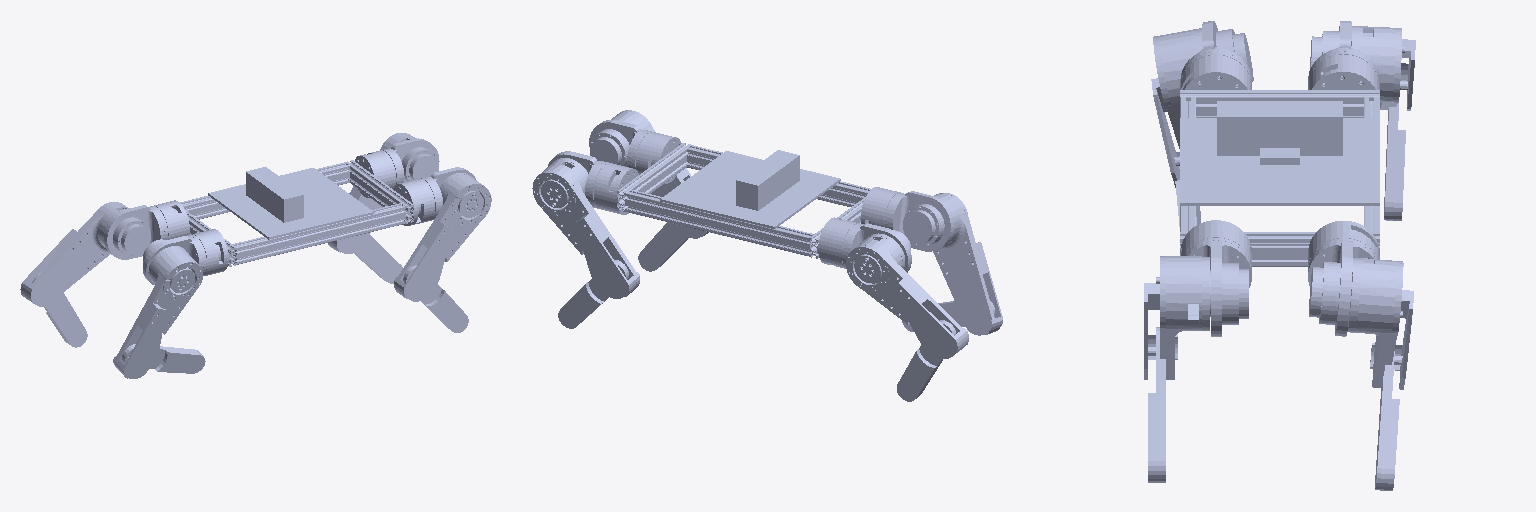
robot.urdf — Ares:
<?xml version="1.0" encoding="utf-8"?>
<!-- This URDF was automatically created by SolidWorks to URDF Exporter! Originally created by Stephen Brawner (brawner@gmail.com) 
     Commit Version: 1.6.0-4-g7f85cfe  Build Version: 1.6.7995.38578
     For more information, please see http://wiki.ros.org/sw_urdf_exporter -->
<robot
  name="Ares">
  <link
    name="base_link">
    <inertial>
      <origin
        xyz="-0.0045395 1.4255E-05 -0.026741"
        rpy="0 0 0" />
      <mass
        value="3.806500" />
      <inertia
        ixx="0.028212"
        ixy="0.000001"
        ixz="0.001285"
        iyy="0.151792"
        iyz="0.000001"
        izz="0.174225" />
    </inertial>
    <visual>
      <origin
        xyz="0 0 0"
        rpy="0 0 0" />
      <geometry>
        <mesh
          filename="package://Ares/meshes/base_link.STL" />
      </geometry>
      <material
        name="">
        <color
          rgba="0.79216 0.81961 0.93333 1" />
      </material>
    </visual>
    <collision>
      <origin
        xyz="0 0 0"
        rpy="0 0 0" />
      <geometry>
        <mesh
          filename="package://Ares/meshes/base_link.STL" />
      </geometry>
    </collision>
  </link>
  <link
    name="lf_hip_link">
    <inertial>
      <origin
        xyz="0.049383 -0.008743 0.0008623"
        rpy="0 0 0" />
      <mass
        value="0.518000" />
      <inertia
        ixx="0.000349"
        ixy="0.000067"
        ixz="0.0"
        iyy="0.000641"
        iyz="0.0"
        izz="0.000534" />
    </inertial>
    <visual>
      <origin
        xyz="0 0 0"
        rpy="0 0 0" />
      <geometry>
        <mesh
          filename="package://Ares/meshes/lf_hip_link.STL" />
      </geometry>
      <material
        name="">
        <color
          rgba="0.79216 0.81961 0.93333 1" />
      </material>
    </visual>
    <collision>
      <origin
        xyz="0 0 0"
        rpy="0 0 0" />
      <geometry>
        <mesh
          filename="package://Ares/meshes/lf_hip_link.STL" />
      </geometry>
    </collision>
  </link>
  <joint
    name="lf_hip_base_joint"
    type="revolute">
    <origin
      xyz="0.2725 0.08 -0.035336"
      rpy="0 0 0" />
    <parent
      link="base_link" />
    <child
      link="lf_hip_link" />
    <axis
      xyz="1 0 0" />
    <limit
      lower="-0.5"
      upper="1.57"
      effort="17"
      velocity="300" />
  </joint>
  <link
    name="lf_thigh_link">
    <inertial>
      <origin
        xyz="0.04587 0.044351 -0.05262"
        rpy="0 0 0" />
      <mass
        value="0.303000" />
      <inertia
        ixx="0.000518"
        ixy="0.000253"
        ixz="0.000493"
        iyy="0.001870"
        iyz="0.000103"
        izz="0.001659" />
    </inertial>
    <visual>
      <origin
        xyz="0 0 0"
        rpy="0 0 0" />
      <geometry>
        <mesh
          filename="package://Ares/meshes/lf_thigh_link.STL" />
      </geometry>
      <material
        name="">
        <color
          rgba="0.79216 0.81961 0.93333 1" />
      </material>
    </visual>
    <collision>
      <origin
        xyz="0 0 0"
        rpy="0 0 0" />
      <geometry>
        <mesh
          filename="package://Ares/meshes/lf_thigh_link.STL" />
      </geometry>
    </collision>
  </link>
  <joint
    name="lf_thigh_hip_joint"
    type="revolute">
    <origin
      xyz="0.069954 0.00049822 -4.2121E-05"
      rpy="0 0 1.5708" />
    <parent
      link="lf_hip_link" />
    <child
      link="lf_thigh_link" />
    <axis
      xyz="-0.99645 0 0.084242" />
    <limit
      lower="-2.35"
      upper="2.35"
      effort="17"
      velocity="300" />
  </joint>
  <link
    name="lf_calf_link">
    <inertial>
      <origin
        xyz="-0.0042146 -0.055056 -0.06235"
        rpy="0 0 0" />
      <mass
        value="0.15779" />
      <inertia
        ixx="0.000294"
        ixy="-0.000010"
        ixz="0.000196"
        iyy="0.000466"
        iyz="0.000013"
        izz="0.000184" />
    </inertial>
    <visual>
      <origin
        xyz="0 0 0"
        rpy="0 0 0" />
      <geometry>
        <mesh
          filename="package://Ares/meshes/lf_calf_link.STL" />
      </geometry>
      <material
        name="">
        <color
          rgba="0.79216 0.81961 0.93333 1" />
      </material>
    </visual>
    <collision>
      <origin
        xyz="0 0 0"
        rpy="0 0 0" />
      <geometry>
        <mesh
          filename="package://Ares/meshes/lf_calf_link.STL" />
      </geometry>
    </collision>
  </link>
  <joint
    name="lf_calf_thigh_joint"
    type="revolute">
    <origin
      xyz="0.058001 0.12479 -0.14869"
      rpy="0 0 0" />
    <parent
      link="lf_thigh_link" />
    <child
      link="lf_calf_link" />
    <axis
      xyz="-0.99645 0 0.084242" />
    <limit
      lower="-0.9"
      upper="0.75"
      effort="17"
      velocity="300" />
  </joint>
  <link
    name="rf_hip_link">
    <inertial>
      <origin
        xyz="0.049377 0.0087846 -0.0001227"
        rpy="0 0 0" />
      <mass
        value="0.518000" />
      <inertia
        ixx="0.000349"
        ixy="-0.000068"
        ixz="0.0"
        iyy="0.000641"
        iyz="0.0"
        izz="0.000534" />
    </inertial>
    <visual>
      <origin
        xyz="0 0 0"
        rpy="0 0 0" />
      <geometry>
        <mesh
          filename="package://Ares/meshes/rf_hip_link.STL" />
      </geometry>
      <material
        name="">
        <color
          rgba="0.79216 0.81961 0.93333 1" />
      </material>
    </visual>
    <collision>
      <origin
        xyz="0 0 0"
        rpy="0 0 0" />
      <geometry>
        <mesh
          filename="package://Ares/meshes/rf_hip_link.STL" />
      </geometry>
    </collision>
  </link>
  <joint
    name="rf_hip_base_joint"
    type="revolute">
    <origin
      xyz="0.2725 -0.08 -0.034664"
      rpy="0 0 0" />
    <parent
      link="base_link" />
    <child
      link="rf_hip_link" />
    <axis
      xyz="1 0 0" />
    <limit
      lower="-1.57"
      upper="0.5"
      effort="17"
      velocity="300" />
  </joint>
  <link
    name="rf_thigh_link">
    <inertial>
      <origin
        xyz="0.050131 -0.045996 -0.046895"
        rpy="0 0 0" />
      <mass
        value="0.303380" />
      <inertia
        ixx="0.000445"
        ixy="-0.000265"
        ixz="-0.000392"
        iyy="0.001870"
        iyz="0.000066"
        izz="0.001732" />
    </inertial>
    <visual>
      <origin
        xyz="0 0 0"
        rpy="0 0 0" />
      <geometry>
        <mesh
          filename="package://Ares/meshes/rf_thigh_link.STL" />
      </geometry>
      <material
        name="">
        <color
          rgba="0.79216 0.81961 0.93333 1" />
      </material>
    </visual>
    <collision>
      <origin
        xyz="0 0 0"
        rpy="0 0 0" />
      <geometry>
        <mesh
          filename="package://Ares/meshes/rf_thigh_link.STL" />
      </geometry>
    </collision>
  </link>
  <joint
    name="rf_thigh_hip_joint"
    type="revolute">
    <origin
      xyz="0.069954 -0.0005 0"
      rpy="0 0 -1.5708" />
    <parent
      link="rf_hip_link" />
    <child
      link="rf_thigh_link" />
    <axis
      xyz="-1 0 0" />
    <limit
      lower="-2.35"
      upper="2.35"
      effort="17"
      velocity="300" />
  </joint>
  <link
    name="rf_calf_ink">
    <inertial>
      <origin
        xyz="0.0010529 0.052087 -0.064979"
        rpy="0 0 0" />
      <mass
        value="0.15779" />
      <inertia
        ixx="0.000375"
        ixy="0.000007"
        ixz="0.000152"
        iyy="0.000466"
        iyz="0.000015"
        izz="0.000103" />
    </inertial>
    <visual>
      <origin
        xyz="0 0 0"
        rpy="0 0 0" />
      <geometry>
        <mesh
          filename="package://Ares/meshes/rf_calf_ink.STL" />
      </geometry>
      <material
        name="">
        <color
          rgba="0.79216 0.81961 0.93333 1" />
      </material>
    </visual>
    <collision>
      <origin
        xyz="0 0 0"
        rpy="0 0 0" />
      <geometry>
        <mesh
          filename="package://Ares/meshes/rf_calf_ink.STL" />
      </geometry>
    </collision>
  </link>
  <joint
    name="rf_calf_thigh_joint"
    type="revolute">
    <origin
      xyz="0.070321 -0.13012 -0.13845"
      rpy="0 0 0" />
    <parent
      link="rf_thigh_link" />
    <child
      link="rf_calf_ink" />
    <axis
      xyz="-1 0 0" />
    <limit
      lower="-0.7"
      upper="0.9"
      effort="17"
      velocity="300" />
  </joint>
  <link
    name="lb_hip_link">
    <inertial>
      <origin
        xyz="0.049383 0.0087802 0.00030416"
        rpy="0 0 0" />
      <mass
        value="0.518000" />
      <inertia
        ixx="0.000349"
        ixy="-0.000067"
        ixz="0.0"
        iyy="0.000641"
        iyz="0.0"
        izz="0.000534" />
    </inertial>
    <visual>
      <origin
        xyz="0 0 0"
        rpy="0 0 0" />
      <geometry>
        <mesh
          filename="package://Ares/meshes/lb_hip_link.STL" />
      </geometry>
      <material
        name="">
        <color
          rgba="0.79216 0.81961 0.93333 1" />
      </material>
    </visual>
    <collision>
      <origin
        xyz="0 0 0"
        rpy="0 0 0" />
      <geometry>
        <mesh
          filename="package://Ares/meshes/lb_hip_link.STL" />
      </geometry>
    </collision>
  </link>
  <joint
    name="lb_hip_base_joint"
    type="revolute">
    <origin
      xyz="-0.2725 0.08 -0.034664"
      rpy="0 0 3.1416" />
    <parent
      link="base_link" />
    <child
      link="lb_hip_link" />
    <axis
      xyz="1 0 0" />
    <limit
      lower="-1.57"
      upper="0.5"
      effort="17"
      velocity="300" />
  </joint>
  <link
    name="lb_thigh_link">
    <inertial>
      <origin
        xyz="0.046986 0.041032 -0.027151"
        rpy="0 0 0" />
      <mass
        value="0.713000" />
      <inertia
        ixx="0.001156"
        ixy="0.000298"
        ixz="-0.000991"
        iyy="0.002863"
        iyz="0.000175"
        izz="0.002142" />
    </inertial>
    <visual>
      <origin
        xyz="0 0 0"
        rpy="0 0 0" />
      <geometry>
        <mesh
          filename="package://Ares/meshes/lb_thigh_link.STL" />
      </geometry>
      <material
        name="">
        <color
          rgba="0.79216 0.81961 0.93333 1" />
      </material>
    </visual>
    <collision>
      <origin
        xyz="0 0 0"
        rpy="0 0 0" />
      <geometry>
        <mesh
          filename="package://Ares/meshes/lb_thigh_link.STL" />
      </geometry>
    </collision>
  </link>
  <joint
    name="lb_thigh_hip_joint"
    type="revolute">
    <origin
      xyz="0.069954 -0.00049941 -2.4287E-05"
      rpy="0 0 -1.5708" />
    <parent
      link="lb_hip_link" />
    <child
      link="lb_thigh_link" />
    <axis
      xyz="-0.99882 0 0.048575" />
    <limit
      lower="-2.35"
      upper="2.35"
      effort="17"
      velocity="300" />
  </joint>
  <link
    name="lb_calf_link">
    <inertial>
      <origin
        xyz="0.0010529 -0.082078 -0.014093"
        rpy="0 0 0" />
      <mass
        value="0.15779" />
      <inertia
        ixx="0.000047"
        ixy="-0.000016"
        ixz="0.000068"
        iyy="0.000466"
        iyz="0.000003"
        izz="0.0004307" />
    </inertial>
    <visual>
      <origin
        xyz="0 0 0"
        rpy="0 0 0" />
      <geometry>
        <mesh
          filename="package://Ares/meshes/lb_calf_link.STL" />
      </geometry>
      <material
        name="">
        <color
          rgba="0.79216 0.81961 0.93333 1" />
      </material>
    </visual>
    <collision>
      <origin
        xyz="0 0 0"
        rpy="0 0 0" />
      <geometry>
        <mesh
          filename="package://Ares/meshes/lb_calf_link.STL" />
      </geometry>
    </collision>
  </link>
  <joint
    name="lb_calf_thigh_joint"
    type="revolute">
    <origin
      xyz="0.065273 0.16017 -0.1055"
      rpy="0 0.048594 0" />
    <parent
      link="lb_thigh_link" />
    <child
      link="lb_calf_link" />
    <axis
      xyz="-1 0 0" />
    <limit
      lower="-1.65"
      upper="-0.13"
      effort="17"
      velocity="300" />
  </joint>
  <link
    name="rb_hip_link">
    <inertial>
      <origin
        xyz="0.049377 -0.0085897 0.0018443"
        rpy="0 0 0" />
      <mass
        value="0.518000" />
      <inertia
        ixx="0.000349"
        ixy="0.000068"
        ixz="0.0"
        iyy="0.000641"
        iyz="0.0"
        izz="0.000534" />
    </inertial>
    <visual>
      <origin
        xyz="0 0 0"
        rpy="0 0 0" />
      <geometry>
        <mesh
          filename="package://Ares/meshes/rb_hip_link.STL" />
      </geometry>
      <material
        name="">
        <color
          rgba="0.79216 0.81961 0.93333 1" />
      </material>
    </visual>
    <collision>
      <origin
        xyz="0 0 0"
        rpy="0 0 0" />
      <geometry>
        <mesh
          filename="package://Ares/meshes/rb_hip_link.STL" />
      </geometry>
    </collision>
  </link>
  <joint
    name="rb_hip_base_joint"
    type="revolute">
    <origin
      xyz="-0.2725 -0.08 -0.035336"
      rpy="0 0 -3.1416" />
    <parent
      link="base_link" />
    <child
      link="rb_hip_link" />
    <axis
      xyz="1 0 0" />
    <limit
      lower="-0.5"
      upper="1.57"
      effort="17"
      velocity="300" />
  </joint>
  <link
    name="rb_thigh_link">
    <inertial>
      <origin
        xyz="0.038079 -0.033629 -0.065183"
        rpy="0 0 0" />
      <mass
        value="0.303380" />
      <inertia
        ixx="0.001513"
        ixy="0.000135"
        ixz="-0.000623"
        iyy="0.001869"
        iyz="-0.000238"
        izz="0.000664" />
    </inertial>
    <visual>
      <origin
        xyz="0 0 0"
        rpy="0 0 0" />
      <geometry>
        <mesh
          filename="package://Ares/meshes/rb_thigh_link.STL" />
      </geometry>
      <material
        name="">
        <color
          rgba="0.79216 0.81961 0.93333 1" />
      </material>
    </visual>
    <collision>
      <origin
        xyz="0 0 0"
        rpy="0 0 0" />
      <geometry>
        <mesh
          filename="package://Ares/meshes/rb_thigh_link.STL" />
      </geometry>
    </collision>
  </link>
  <joint
    name="rb_thigh_hip_joint"
    type="revolute">
    <origin
      xyz="0.069954 0.00049028 -9.8127E-05"
      rpy="0 0 1.5708" />
    <parent
      link="rb_hip_link" />
    <child
      link="rb_thigh_link" />
    <axis
      xyz="-0.98055 0 0.19625" />
    <limit
      lower="-2.35"
      upper="2.35"
      effort="17"
      velocity="300" />
  </joint>
  <link
    name="rb_calf_link">
    <inertial>
      <origin
        xyz="0.0010529 0.078964 -0.026457"
        rpy="0 0 0" />
      <mass
        value="0.15779" />
      <inertia
        ixx="0.000076"
        ixy="0.000016"
        ixz="0.000123"
        iyy="0.000466"
        iyz="-0.000005"
        izz="0.00040158" />
    </inertial>
    <visual>
      <origin
        xyz="0 0 0"
        rpy="0 0 0" />
      <geometry>
        <mesh
          filename="package://Ares/meshes/rb_calf_link.STL" />
      </geometry>
      <material
        name="">
        <color
          rgba="0.79216 0.81961 0.93333 1" />
      </material>
    </visual>
    <collision>
      <origin
        xyz="0 0 0"
        rpy="0 0 0" />
      <geometry>
        <mesh
          filename="package://Ares/meshes/rb_calf_link.STL" />
      </geometry>
    </collision>
  </link>
  <joint
    name="rb_calf_thigh_joint"
    type="revolute">
    <origin
      xyz="0.036523 -0.093767 -0.17584"
      rpy="0 0.19754 0" />
    <parent
      link="rb_thigh_link" />
    <child
      link="rb_calf_link" />
    <axis
      xyz="-1 0 0" />
    <limit
      lower="-0.45"
      upper="1.35"
      effort="17"
      velocity="300" />
  </joint>
</robot>

--- What the picture shows (computed from the rendered views, not written in the file) ---
Views: 3 orthographic renders of the robot side by side, from view 1: azimuth 30°, elevation 25°; view 2: azimuth 150°, elevation 25°; view 3: azimuth 270°, elevation 25°.
Robot: Ares — 13 links, 12 joints (12 revolute); root link base_link; default pose: all joints at 0 but 1 set to mid-range because 0 is outside their limits (lb_calf_thigh_joint = -0.89).
Links seen in each view (by area): view 1: base_link, rf_thigh_link, rb_thigh_link, lb_thigh_link, lb_hip_link, lf_hip_link, rb_calf_link, lb_calf_link, rf_calf_ink, lf_calf_link, rb_hip_link, lf_thigh_link (+1 smaller); view 2: base_link, lb_thigh_link, lf_thigh_link, rb_thigh_link, rb_hip_link, rf_hip_link, lb_calf_link, lf_calf_link, rf_calf_ink, lb_hip_link, rf_thigh_link, lf_hip_link; view 3: base_link, lf_thigh_link, rf_thigh_link, lf_hip_link, rf_hip_link, rb_thigh_link, lb_thigh_link, lf_calf_link, rf_calf_ink, lb_calf_link, rb_hip_link, lb_hip_link.
Link boxes in pixels (x1,y1,x2,y2): base_link: (154,150,434,275); rf_thigh_link: (394,173,491,301); rb_thigh_link: (113,246,202,378); lb_thigh_link: (20,202,129,306); lb_hip_link: (104,205,167,259); lf_hip_link: (383,138,439,183); rb_calf_link: (122,344,205,373); lb_calf_link: (32,273,87,347); rf_calf_ink: (403,265,468,332); lf_calf_link: (354,234,402,283); rb_hip_link: (143,235,206,284); lf_thigh_link: (328,133,416,253); base_link: (594,132,900,268); lb_thigh_link: (846,233,968,358); lf_thigh_link: (532,158,639,298); rb_thigh_link: (933,193,1002,335); rb_hip_link: (884,191,953,251); rf_hip_link: (589,120,651,168); lb_calf_link: (897,320,955,401); lf_calf_link: (558,260,628,328); rf_calf_ink: (638,222,688,271); lb_hip_link: (842,223,911,272); rf_thigh_link: (611,110,708,238); lf_hip_link: (548,151,608,208); base_link: (1180,54,1379,266); lf_thigh_link: (1347,258,1413,389); rf_thigh_link: (1144,256,1210,379); lf_hip_link: (1308,238,1376,336); rf_hip_link: (1184,238,1251,336); rb_thigh_link: (1151,28,1202,187); lb_thigh_link: (1351,26,1415,110); lf_calf_link: (1375,351,1399,490); rf_calf_ink: (1148,327,1165,482); lb_calf_link: (1384,103,1405,220); rb_hip_link: (1180,21,1253,84); lb_hip_link: (1308,21,1379,82).
Bounding box of the posed robot: 0.9427 × 0.3405 × 0.3613 m (x, y, z).
Meshes: 13 distinct files referenced, 13 mesh visuals loaded (13 binary STL).
